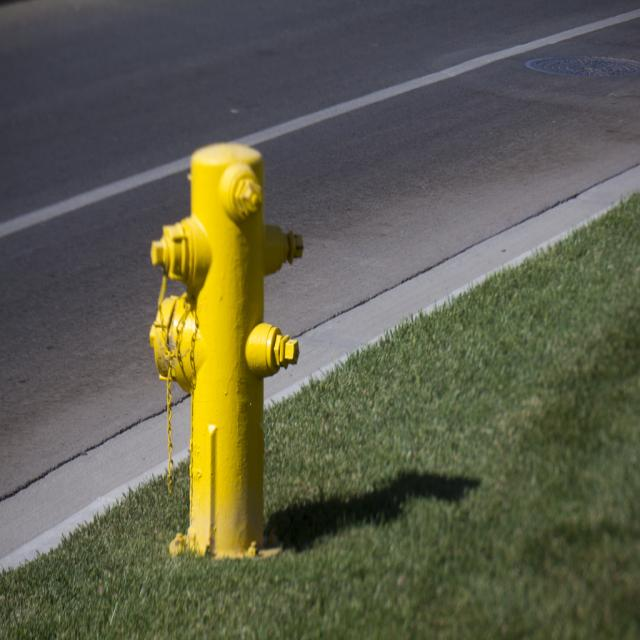fire_hydrant: (150, 142, 300, 562)
